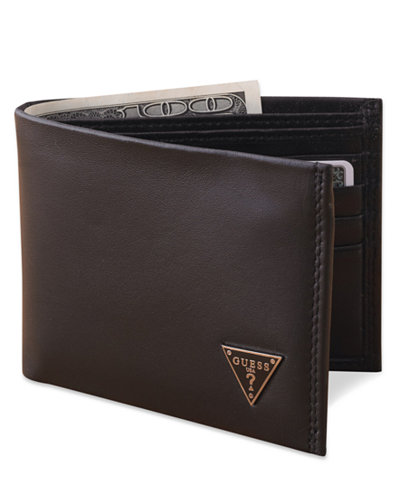monedero: (11, 93, 388, 458)
